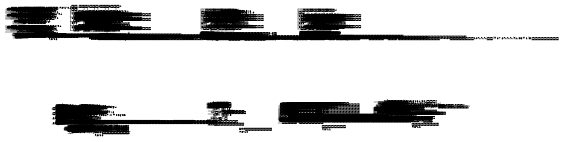door: (437, 112, 442, 113), (15, 108, 17, 109), (15, 107, 17, 108), (105, 141, 107, 142), (50, 136, 52, 137), (50, 116, 52, 117), (15, 109, 16, 110), (283, 116, 284, 117), (121, 141, 122, 142), (138, 108, 139, 109), (138, 105, 139, 106), (138, 106, 139, 107), (134, 109, 135, 110), (135, 109, 136, 110), (136, 141, 137, 142), (151, 141, 152, 142), (95, 141, 96, 142), (95, 122, 96, 123), (95, 117, 96, 118), (294, 116, 295, 117), (305, 116, 306, 117), (316, 116, 317, 117), (294, 120, 295, 121), (283, 124, 284, 125), (294, 124, 295, 125), (305, 124, 306, 125), (316, 124, 317, 125), (283, 128, 284, 129), (294, 128, 295, 129), (305, 128, 306, 129), (316, 128, 317, 129), (422, 116, 423, 117), (433, 116, 434, 117), (444, 116, 445, 117), (455, 116, 456, 117), (433, 120, 434, 121), (422, 124, 423, 125), (433, 124, 434, 125), (444, 124, 445, 125), (455, 124, 456, 125), (422, 128, 423, 129), (433, 128, 434, 129), (444, 128, 445, 129), (455, 128, 456, 129), (95, 137, 96, 138), (95, 127, 96, 128), (95, 132, 96, 133), (20, 107, 21, 108), (10, 117, 11, 118), (20, 117, 21, 118), (20, 137, 21, 138), (39, 137, 40, 138), (39, 117, 40, 118), (10, 137, 11, 138), (15, 108, 17, 108), (15, 107, 17, 107), (13, 109, 14, 109), (138, 109, 139, 109), (138, 108, 139, 108), (138, 107, 139, 107), (138, 106, 139, 106), (550, 27, 553, 27), (554, 27, 555, 27), (539, 27, 543, 27), (543, 27, 544, 27), (529, 27, 532, 27), (532, 27, 533, 27), (286, 137, 287, 137), (297, 137, 298, 137), (308, 137, 309, 137), (319, 137, 320, 137), (280, 118, 281, 118), (280, 122, 281, 122), (280, 126, 281, 126), (280, 130, 281, 130), (280, 134, 281, 134), (425, 137, 426, 137), (436, 137, 437, 137), (447, 137, 448, 137), (458, 137, 459, 137), (419, 118, 421, 118), (419, 122, 421, 122), (419, 126, 421, 126), (419, 130, 421, 130), (419, 134, 421, 134), (50, 130, 52, 130), (50, 123, 52, 123), (98, 115, 99, 115), (113, 115, 114, 115), (128, 115, 129, 115), (143, 115, 144, 115), (113, 120, 114, 120), (98, 125, 99, 125), (113, 125, 114, 125), (128, 125, 129, 125), (143, 125, 144, 125), (98, 130, 99, 130), (113, 130, 114, 130), (128, 130, 129, 130), (143, 130, 144, 130), (29, 117, 29, 118), (20, 124, 21, 124), (20, 131, 21, 131), (29, 131, 29, 131), (29, 137, 29, 138), (39, 131, 40, 131)
room: (12, 107, 26, 112), (390, 12, 402, 17), (133, 105, 143, 110), (290, 22, 305, 25), (12, 122, 22, 126), (27, 136, 38, 139), (27, 129, 38, 132), (27, 116, 38, 119), (38, 136, 48, 139), (38, 129, 48, 132), (12, 136, 22, 139), (12, 129, 22, 132), (2, 136, 12, 139), (2, 129, 12, 132), (38, 116, 48, 119), (12, 116, 22, 119), (2, 116, 12, 119), (310, 23, 317, 25), (547, 23, 550, 27), (550, 23, 553, 27), (539, 23, 542, 27), (526, 23, 529, 27), (529, 23, 532, 27), (391, 14, 396, 16), (550, 23, 553, 26), (539, 23, 542, 26), (537, 23, 539, 27), (289, 30, 293, 32), (299, 30, 303, 32), (293, 30, 296, 32), (296, 30, 299, 32), (303, 30, 306, 32), (529, 23, 531, 26), (289, 29, 293, 30), (289, 32, 293, 33), (299, 29, 303, 30), (299, 32, 303, 33), (289, 118, 292, 119), (293, 29, 296, 30), (296, 29, 299, 30), (293, 32, 296, 33), (296, 32, 299, 33), (303, 29, 306, 30), (303, 32, 306, 33), (289, 126, 292, 127), (289, 130, 292, 131), (300, 118, 303, 119), (300, 122, 303, 123), (300, 126, 303, 127), (300, 130, 303, 131), (311, 118, 314, 119), (311, 126, 314, 127), (311, 130, 314, 131), (322, 118, 325, 119), (322, 126, 325, 127), (322, 130, 325, 131), (428, 118, 431, 119), (428, 126, 431, 127), (428, 130, 431, 131), (439, 118, 442, 119), (439, 122, 442, 123), (439, 126, 442, 127), (439, 130, 442, 131), (450, 118, 453, 119), (450, 126, 453, 127), (450, 130, 453, 131), (461, 118, 464, 119), (461, 126, 464, 127), (461, 130, 464, 131), (556, 30, 557, 31), (135, 108, 135, 109), (296, 109, 298, 109)
staircase: (547, 31, 549, 32)
wall: (536, 22, 547, 29), (526, 22, 536, 29), (547, 22, 556, 29), (536, 29, 545, 35), (527, 29, 536, 35), (545, 29, 553, 35), (105, 22, 111, 26), (72, 22, 78, 26), (72, 16, 78, 20), (105, 11, 111, 15), (72, 11, 78, 15), (105, 27, 111, 31), (72, 27, 78, 31), (289, 33, 306, 34), (88, 18, 93, 21), (424, 130, 430, 131), (435, 130, 441, 131), (446, 130, 452, 131), (457, 130, 463, 131), (101, 22, 105, 23), (79, 22, 83, 23), (79, 17, 83, 18), (101, 11, 105, 12), (79, 11, 83, 12), (101, 28, 105, 29), (79, 28, 83, 29), (550, 22, 553, 23), (526, 22, 529, 23), (548, 22, 550, 23), (537, 22, 539, 23), (540, 22, 542, 23), (547, 33, 549, 34), (539, 30, 541, 31), (529, 22, 531, 23), (19, 109, 20, 110), (286, 119, 289, 119), (548, 26, 550, 26), (550, 26, 553, 26), (554, 23, 555, 23), (551, 27, 551, 28), (537, 26, 539, 26), (540, 26, 542, 26), (547, 34, 549, 34), (539, 30, 541, 30), (526, 26, 529, 26), (529, 26, 531, 26), (286, 127, 289, 127), (286, 131, 289, 131), (297, 119, 300, 119), (297, 123, 300, 123), (297, 127, 300, 127), (297, 131, 300, 131), (308, 119, 311, 119), (308, 127, 311, 127), (308, 131, 311, 131), (319, 119, 322, 119), (319, 127, 322, 127), (319, 131, 322, 131), (457, 127, 463, 127), (446, 127, 452, 127), (435, 127, 441, 127), (424, 127, 430, 127)
window: (390, 12, 402, 17), (437, 112, 441, 115), (391, 14, 396, 16), (439, 111, 442, 113), (391, 14, 395, 15), (393, 28, 396, 29), (404, 28, 407, 29), (398, 28, 401, 29), (410, 28, 413, 29), (415, 28, 418, 29), (393, 25, 396, 26), (398, 25, 401, 26), (85, 5, 87, 6), (85, 4, 87, 5), (438, 111, 440, 112), (393, 32, 394, 34), (404, 32, 405, 34), (398, 32, 399, 34), (393, 29, 394, 31), (407, 28, 409, 29), (404, 29, 405, 31), (398, 29, 399, 31), (410, 32, 411, 34), (410, 29, 411, 31), (395, 12, 397, 13), (415, 32, 416, 34), (426, 32, 427, 34), (431, 32, 432, 34), (437, 32, 438, 34), (415, 29, 416, 31), (421, 28, 423, 29), (393, 26, 394, 28), (398, 26, 399, 28), (393, 22, 394, 24), (398, 22, 399, 24), (89, 5, 91, 6), (89, 4, 91, 5), (94, 7, 95, 8), (396, 28, 397, 29), (401, 28, 402, 29), (413, 28, 414, 29), (404, 15, 405, 16), (404, 20, 405, 21), (418, 28, 419, 29), (424, 28, 425, 29), (396, 25, 397, 26), (401, 25, 402, 26), (94, 3, 95, 4), (94, 7, 95, 7), (89, 7, 91, 7), (439, 112, 440, 112), (439, 111, 440, 111), (438, 111, 438, 111), (393, 32, 396, 32), (396, 32, 397, 32), (404, 32, 407, 32), (407, 32, 409, 32), (398, 32, 401, 32), (401, 32, 402, 32), (392, 15, 393, 15), (394, 15, 395, 15), (410, 32, 413, 32), (413, 32, 414, 32), (393, 16, 394, 16), (404, 16, 405, 16), (404, 15, 405, 15), (404, 14, 405, 14), (404, 19, 405, 19), (404, 21, 404, 21), (404, 20, 404, 21), (404, 20, 405, 20), (404, 18, 404, 18), (404, 18, 405, 18), (404, 16, 404, 16), (404, 17, 405, 17), (415, 32, 418, 32), (418, 32, 419, 32), (421, 32, 423, 32), (424, 32, 425, 32), (421, 32, 421, 34), (426, 32, 429, 32), (429, 32, 430, 32), (431, 32, 434, 32), (434, 32, 436, 32), (437, 32, 440, 32), (440, 32, 441, 32), (421, 29, 421, 31), (393, 22, 396, 22), (396, 22, 397, 22), (398, 22, 401, 22), (401, 22, 402, 22), (94, 5, 95, 5), (94, 6, 95, 6), (94, 4, 95, 4), (94, 3, 95, 3), (89, 3, 91, 3)
